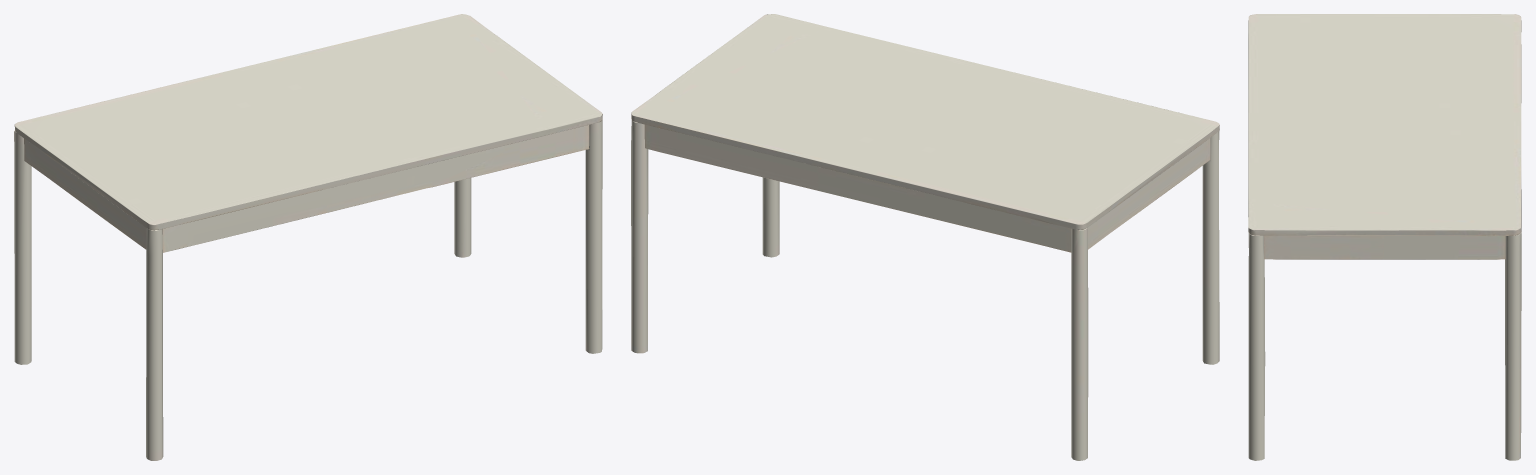
Rendered from 24 - TONSTAD Table - off-white 150x80 cm.glb.
3 renders of one model, left to right at view 1: azimuth 30°, elevation 25°; view 2: azimuth 150°, elevation 25°; view 3: azimuth 270°, elevation 25°, orthographic. The views are drawn at different scales.
Visible parts, largest first — view 1: ASY_ART_60599939_S01_NV01; view 2: ASY_ART_60599939_S01_NV01; view 3: ASY_ART_60599939_S01_NV01.
Boxes of the visible parts, x1,y1,x2,y2 form: ASY_ART_60599939_S01_NV01: (14, 14, 602, 460); ASY_ART_60599939_S01_NV01: (631, 14, 1219, 460); ASY_ART_60599939_S01_NV01: (1248, 14, 1521, 460).
Size of the model in its own units: 1.5 by 0.7496 by 0.8011.
1 material, 1 textured.
